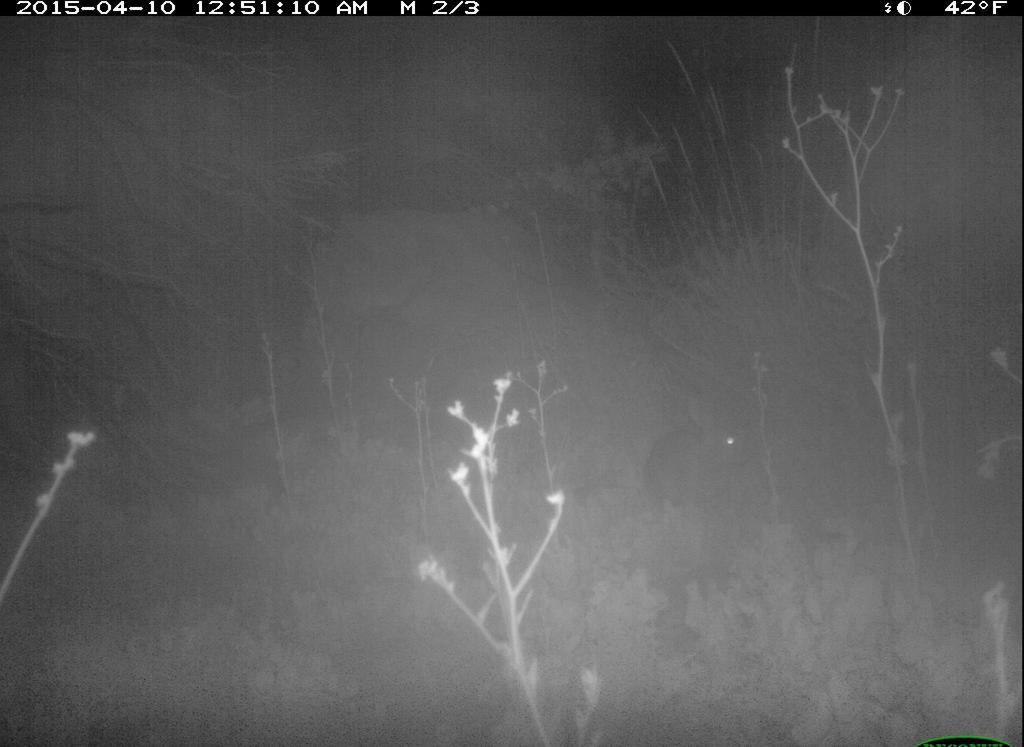rabbit: (633, 393, 760, 514)
